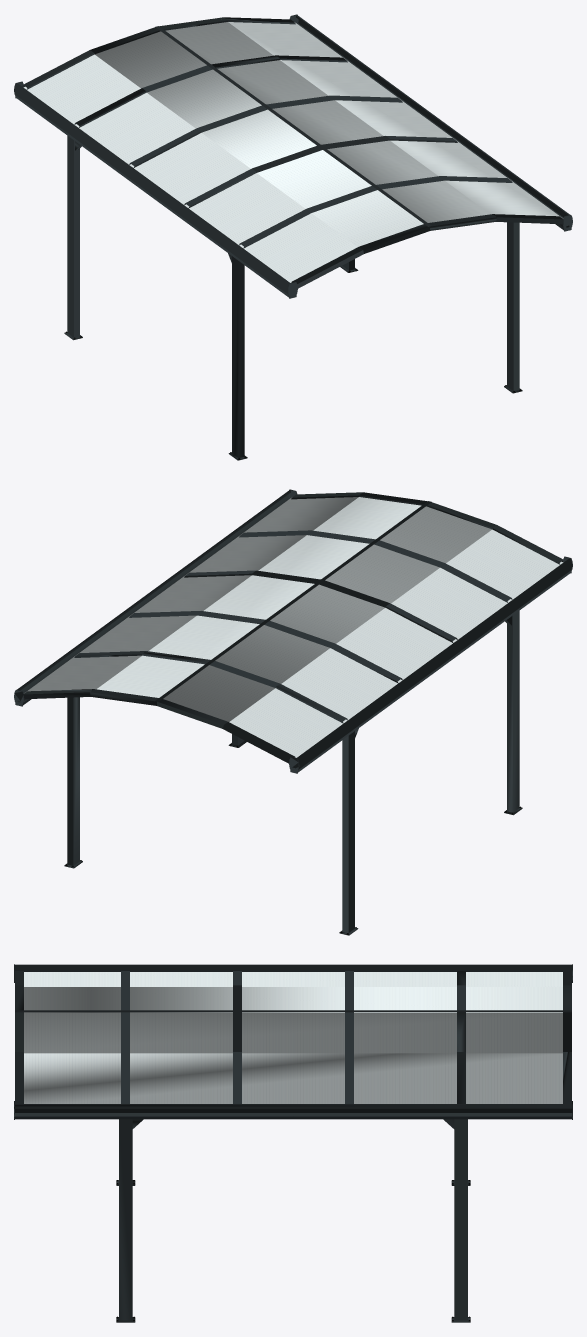
3 views of the same model, one above another, from view 1: azimuth 30°, elevation 25°; view 2: azimuth 150°, elevation 25°; view 3: azimuth 270°, elevation 25° (orthographic).
Visible parts, largest first — view 1: priximbattable_net_abris_de_voiture_13401_carport_aluminium_; view 2: priximbattable_net_abris_de_voiture_13401_carport_aluminium_; view 3: priximbattable_net_abris_de_voiture_13401_carport_aluminium_.
Part boxes in pixels (x1,y1,x2,y2): priximbattable_net_abris_de_voiture_13401_carport_aluminium_: [14, 14, 572, 460]; priximbattable_net_abris_de_voiture_13401_carport_aluminium_: [14, 489, 572, 935]; priximbattable_net_abris_de_voiture_13401_carport_aluminium_: [14, 964, 572, 1322].
Size of the model in its own units: 300 by 237 by 500.
1 material, 1 textured.
